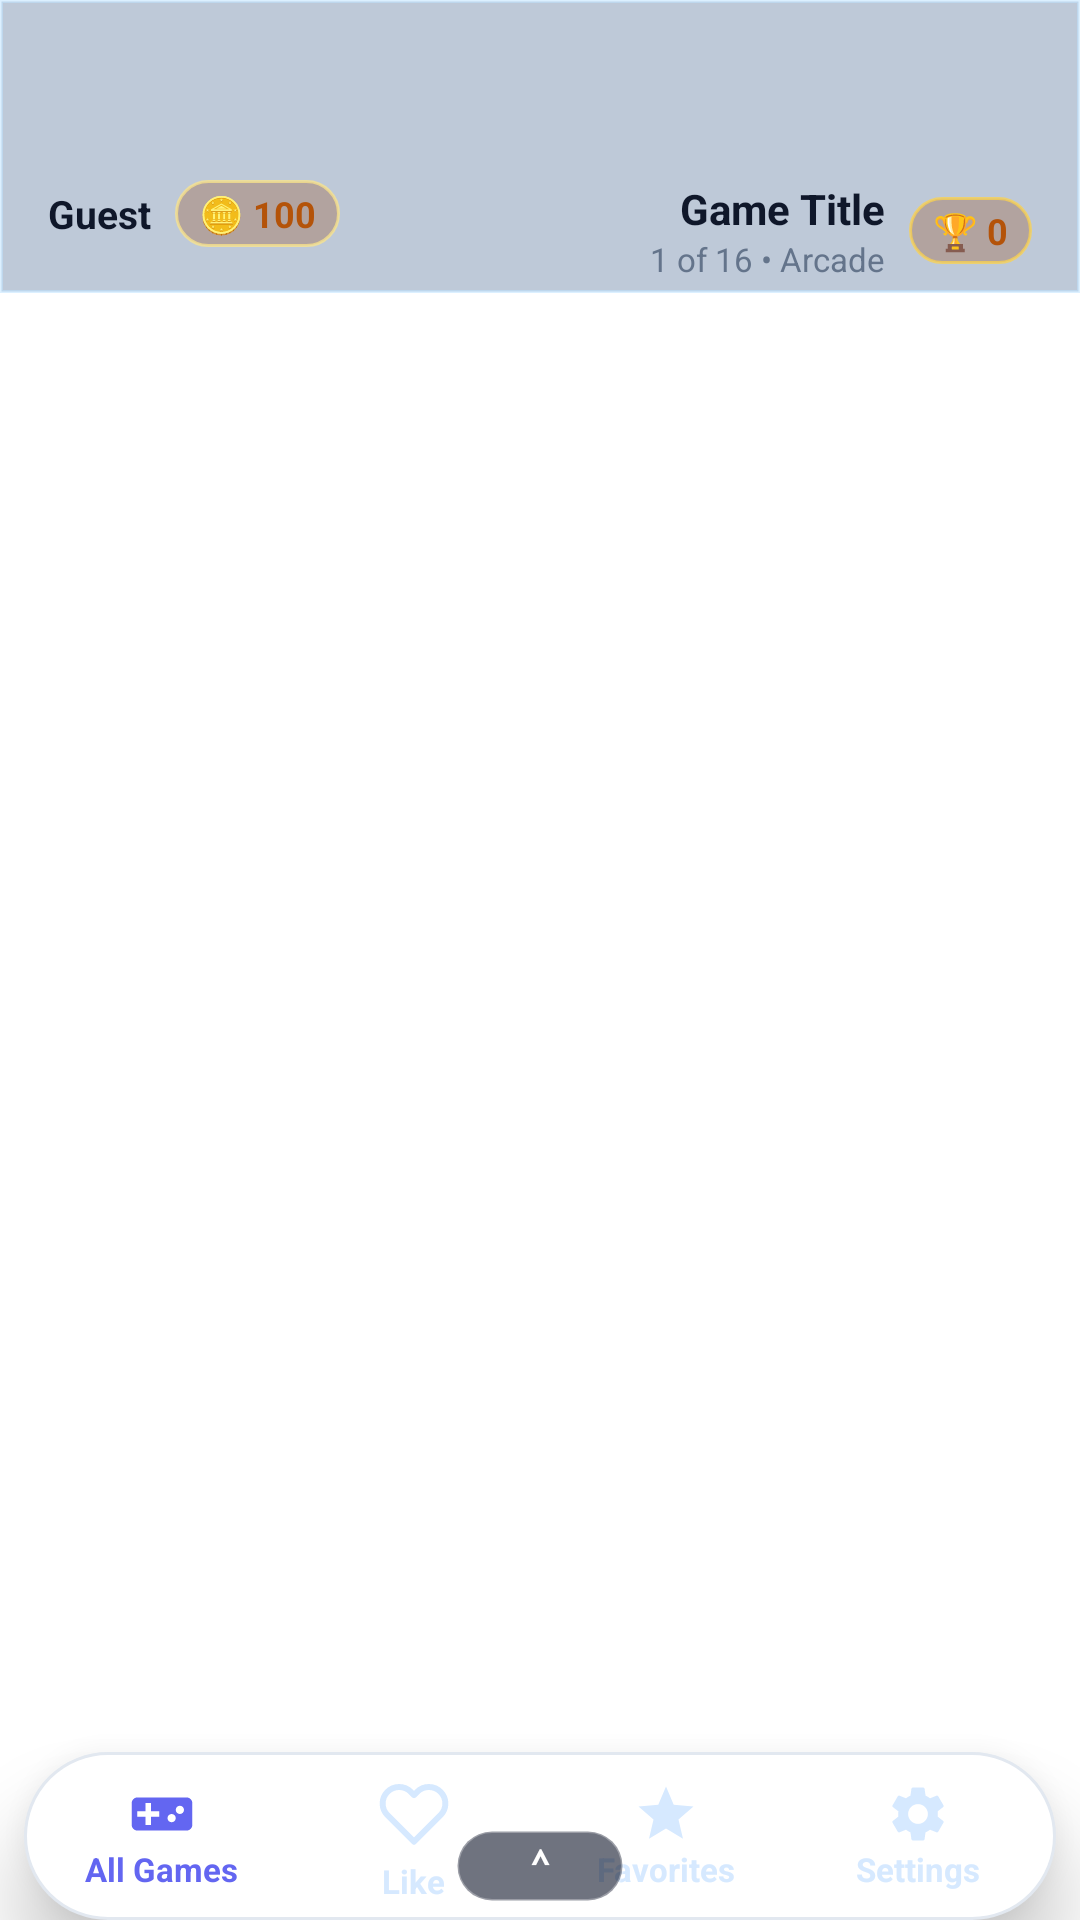

Named icons in this screenshot (1080x1920) and their centers, [x,y]:
gamepad: [162,1814]
heart: [414,1814]
star: [666,1813]
